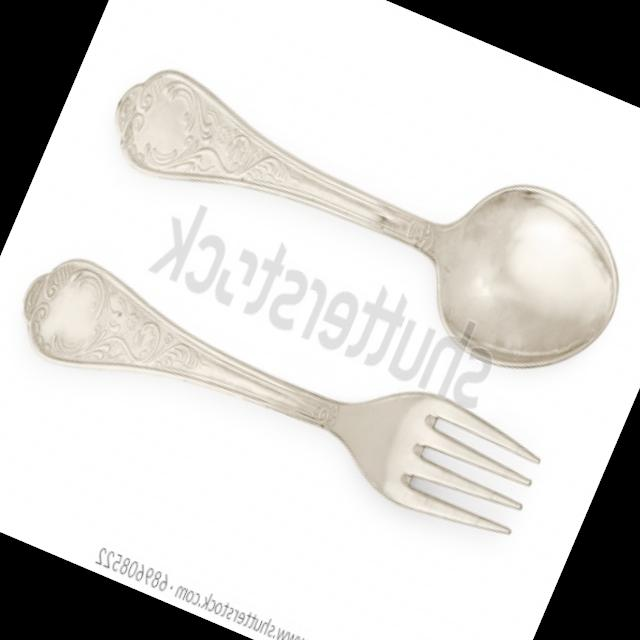fork: (2, 230, 550, 554)
